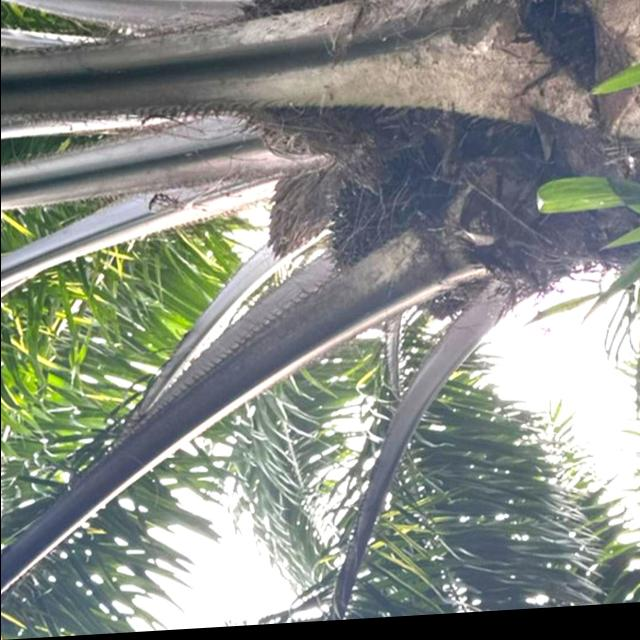unripe: (319, 162, 443, 278)
